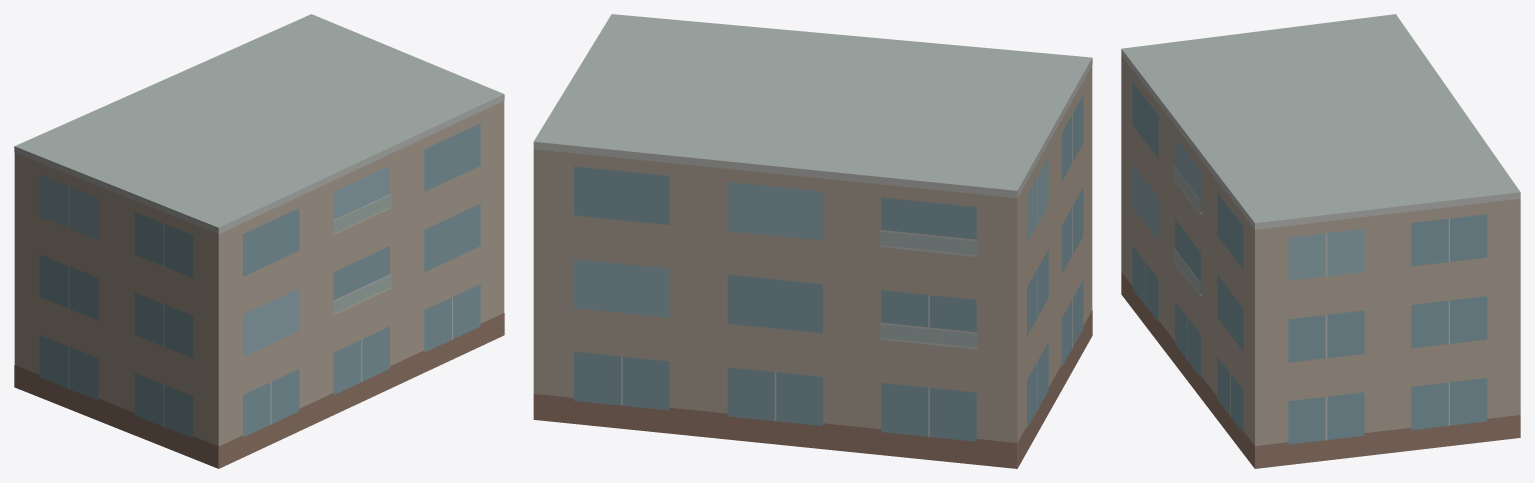
File: survey-upis-32620196.glb
3 renders of one model, left to right at view 1: azimuth 30°, elevation 25°; view 2: azimuth 150°, elevation 25°; view 3: azimuth 270°, elevation 25°, orthographic. The views are drawn at different scales.
Parts seen in each view (by area): view 1: survey-upis-32620196.tmp; view 2: survey-upis-32620196.tmp; view 3: survey-upis-32620196.tmp.
Boxes of the visible parts, x1,y1,x2,y2 form: survey-upis-32620196.tmp: [14, 14, 504, 468]; survey-upis-32620196.tmp: [533, 14, 1092, 468]; survey-upis-32620196.tmp: [1121, 14, 1520, 468].
Size of the model in its own units: 16.73 by 9.15 by 13.49.
